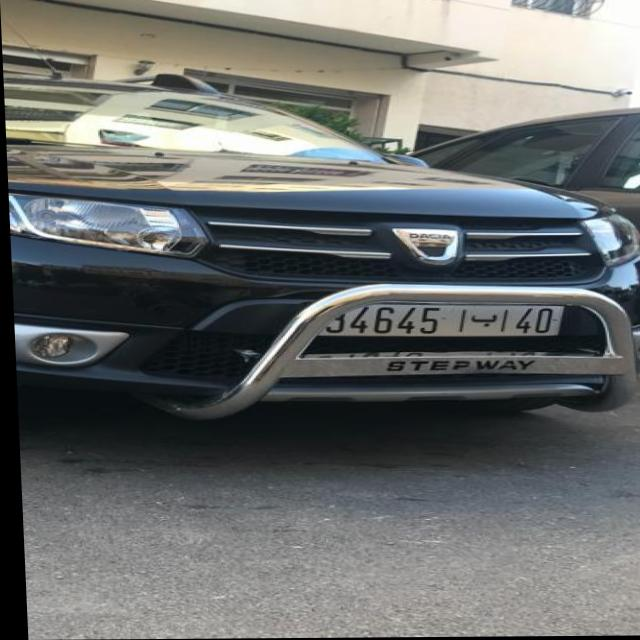License-Plate: (316, 305, 559, 338)
